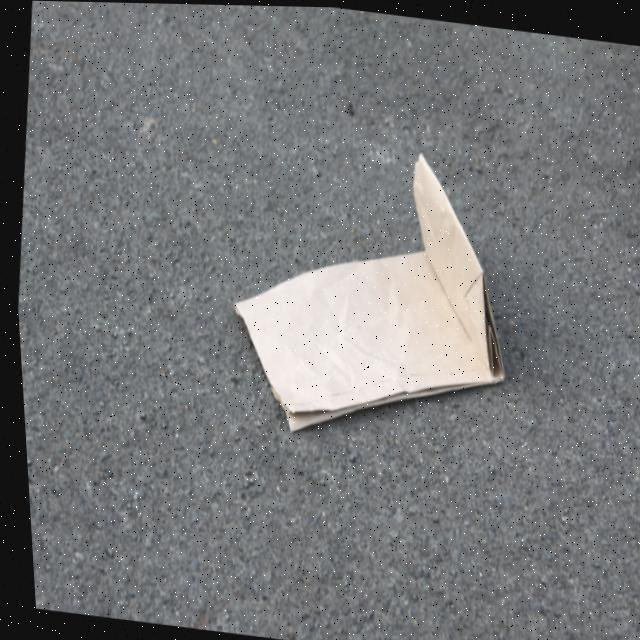Paper_Bag: (208, 128, 526, 459)
